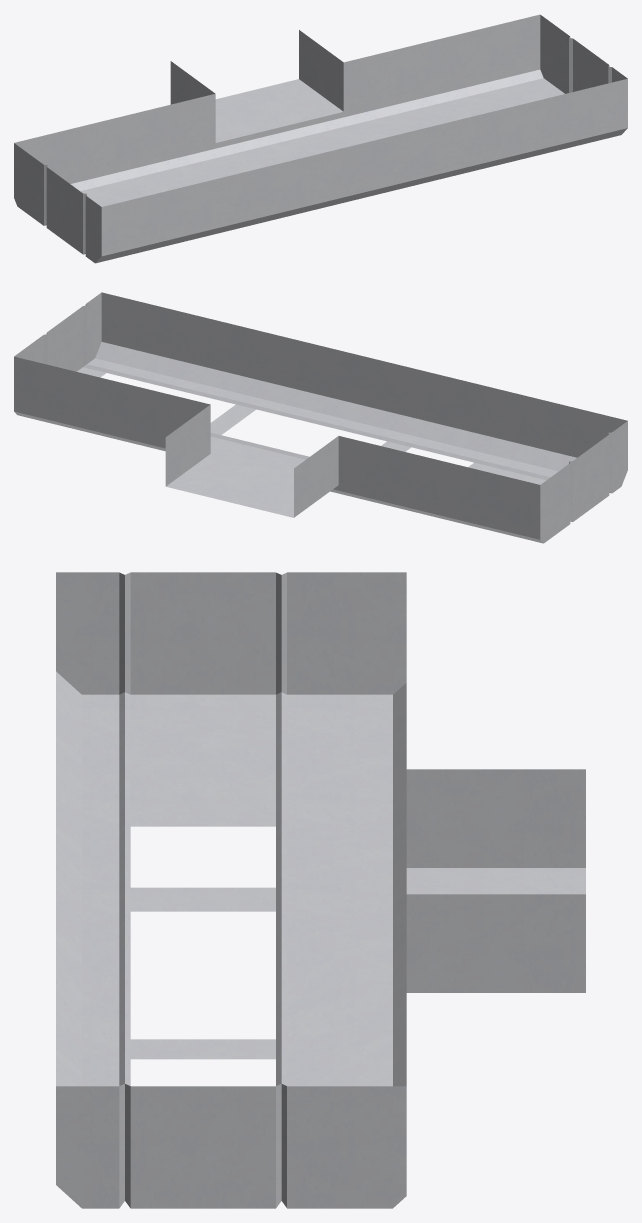
The model's file is SM_Steckdosenbox_06.obj.
The picture shows the model from 3 angles, top to bottom: view 1: azimuth 30°, elevation 25°; view 2: azimuth 150°, elevation 25°; view 3: azimuth 270°, elevation 25°; orthographic projection. The views are drawn at different scales.
Parts seen in each view (by area): view 1: SM_Steckdosenbox_06; view 2: SM_Steckdosenbox_06; view 3: SM_Steckdosenbox_06.
Boxes of the visible parts, box(x1,y1,x2,y2) form: SM_Steckdosenbox_06: box(14, 14, 627, 263); SM_Steckdosenbox_06: box(14, 292, 627, 543); SM_Steckdosenbox_06: box(56, 572, 585, 1208).
Size of the model in its own units: 0.5669 by 0.063 by 0.2472.
Materials: 1 (1 with a texture image).
